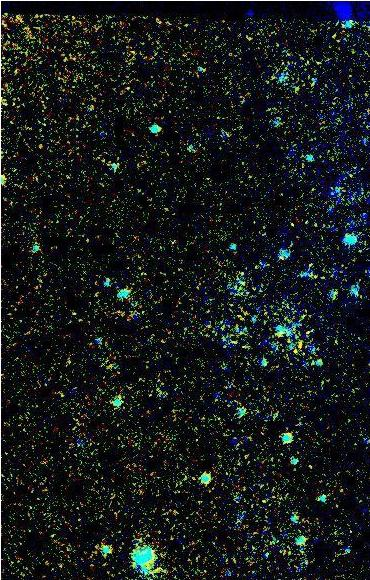star: (266, 323, 296, 353)
